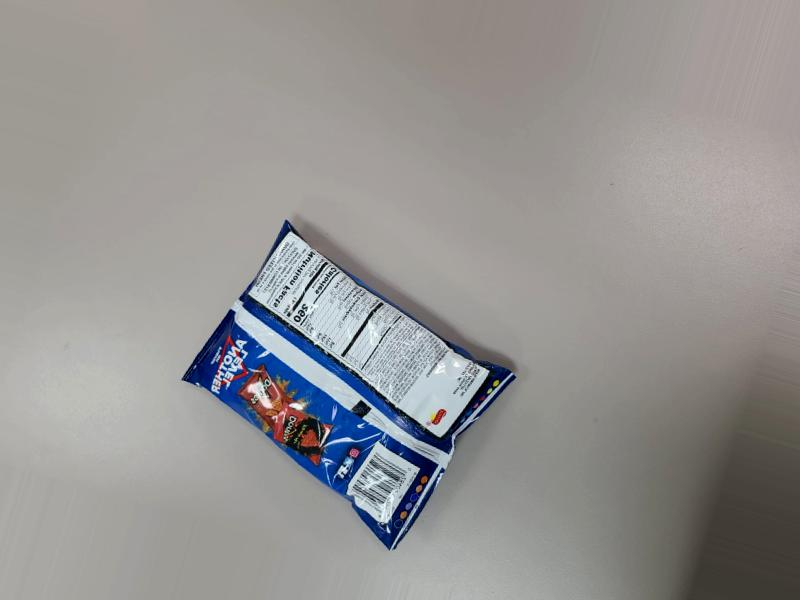doritos: (192, 194, 522, 565)
